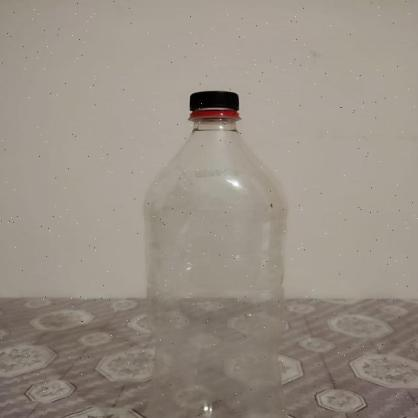bottle: (144, 90, 288, 418)
cap: (190, 92, 240, 120)
